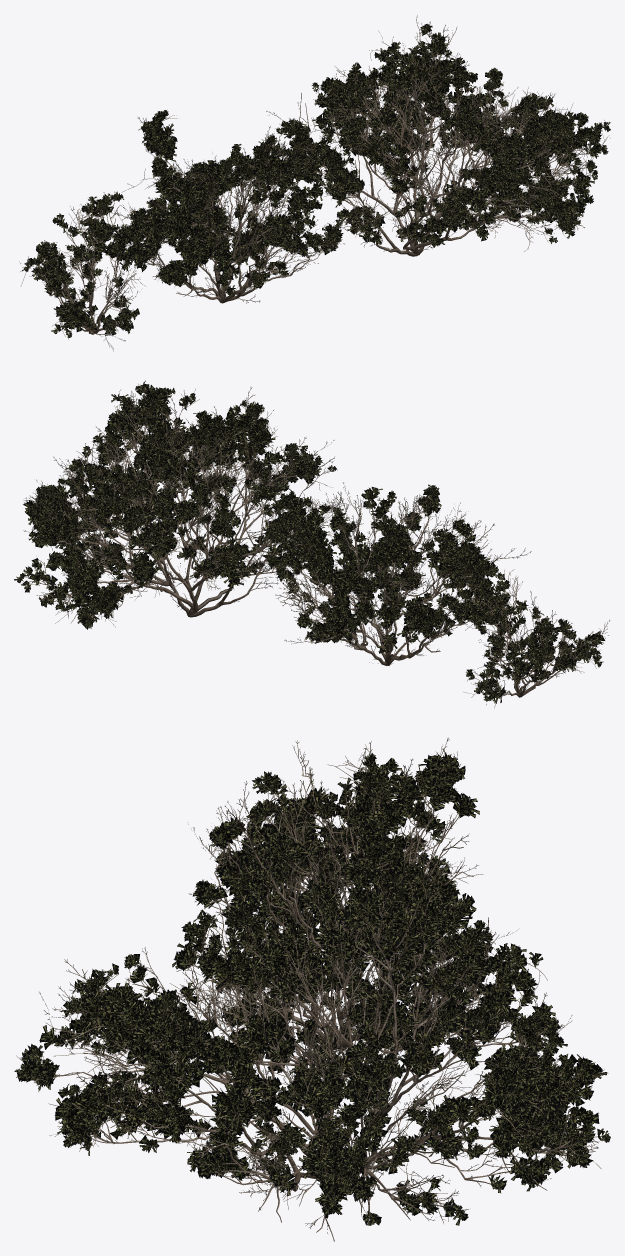
The model's file is searsia_burchellii_4k.gltf.
The picture shows the model from 3 angles, top to bottom: view 1: azimuth 30°, elevation 25°; view 2: azimuth 150°, elevation 25°; view 3: azimuth 270°, elevation 25°; orthographic projection. The views are drawn at different scales.
Visible parts, largest first — view 1: searsia_burchellii_large_LOD0, searsia_burchellii_medium_LOD0, searsia_burchellii_small_LOD0; view 2: searsia_burchellii_large_LOD0, searsia_burchellii_medium_LOD0, searsia_burchellii_small_LOD0; view 3: searsia_burchellii_large_LOD0, searsia_burchellii_medium_LOD0, searsia_burchellii_small_LOD0.
Boxes of the visible parts, x1,y1,x2,y2 form: searsia_burchellii_large_LOD0: (266,15,610,256); searsia_burchellii_medium_LOD0: (108,110,350,303); searsia_burchellii_small_LOD0: (20,191,145,351); searsia_burchellii_large_LOD0: (14,380,337,629); searsia_burchellii_medium_LOD0: (274,482,531,665); searsia_burchellii_small_LOD0: (456,564,609,708); searsia_burchellii_large_LOD0: (14,864,610,1241); searsia_burchellii_medium_LOD0: (174,737,479,1069); searsia_burchellii_small_LOD0: (216,741,483,941).
Bounding box in the file's own units: 8.36 × 3.25 × 5.05.
3 materials, 3 textured.
